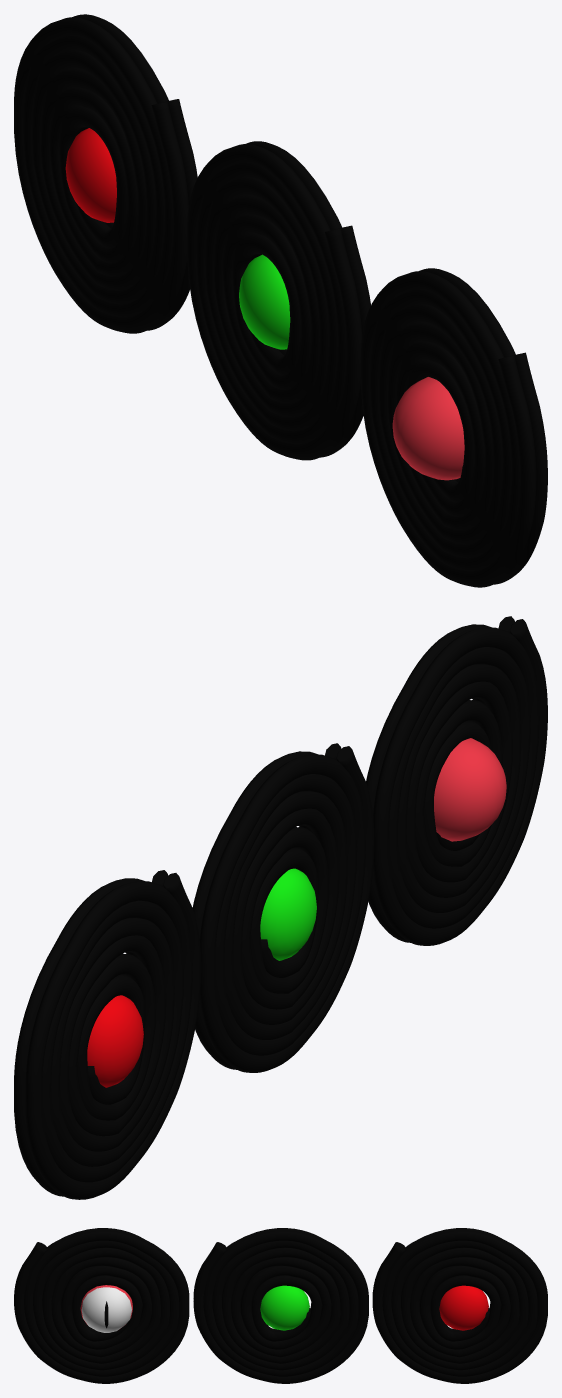
Rendered from P_Licoshield.fbx.
The picture shows the model from 3 angles, top to bottom: view 1: azimuth 30°, elevation 25°; view 2: azimuth 150°, elevation 25°; view 3: azimuth 270°, elevation 25°; orthographic projection. The views are drawn at different scales.
Parts seen in each view (by area): view 1: P_LicoShield_Var1, P_LicoShield_Var2, P_LicoShield_Var2.001; view 2: P_LicoShield_Var2.001, P_LicoShield_Var1, P_LicoShield_Var2; view 3: P_LicoShield_Var1, P_LicoShield_Var2, P_LicoShield_Var2.001.
Part boxes in pixels (left/top/right/bottom): P_LicoShield_Var1: left=360, top=268, right=547, bottom=587; P_LicoShield_Var2: left=187, top=141, right=370, bottom=460; P_LicoShield_Var2.001: left=14, top=14, right=197, bottom=333; P_LicoShield_Var2.001: left=14, top=870, right=201, bottom=1199; P_LicoShield_Var1: left=366, top=616, right=547, bottom=945; P_LicoShield_Var2: left=192, top=743, right=374, bottom=1072; P_LicoShield_Var1: left=14, top=1228, right=189, bottom=1383; P_LicoShield_Var2: left=193, top=1228, right=368, bottom=1383; P_LicoShield_Var2.001: left=372, top=1228, right=547, bottom=1383.
Bounding box in the file's own units: 414 × 1264 × 3999.
